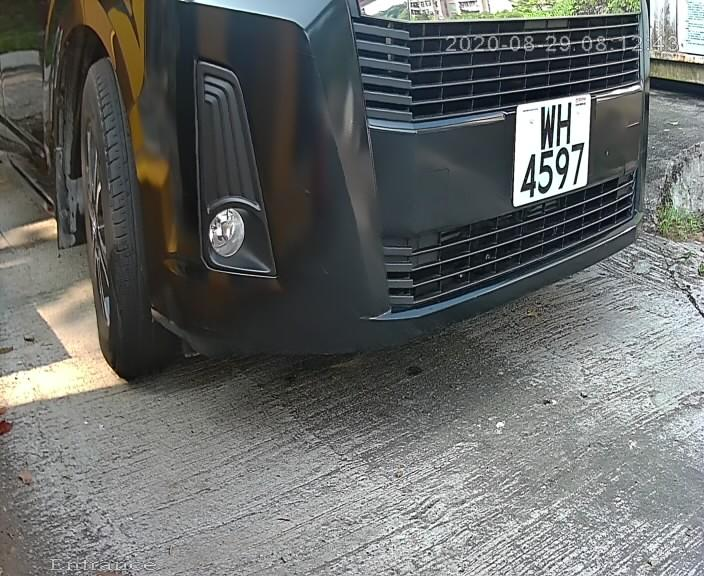License Plate: (500, 83, 601, 211)
